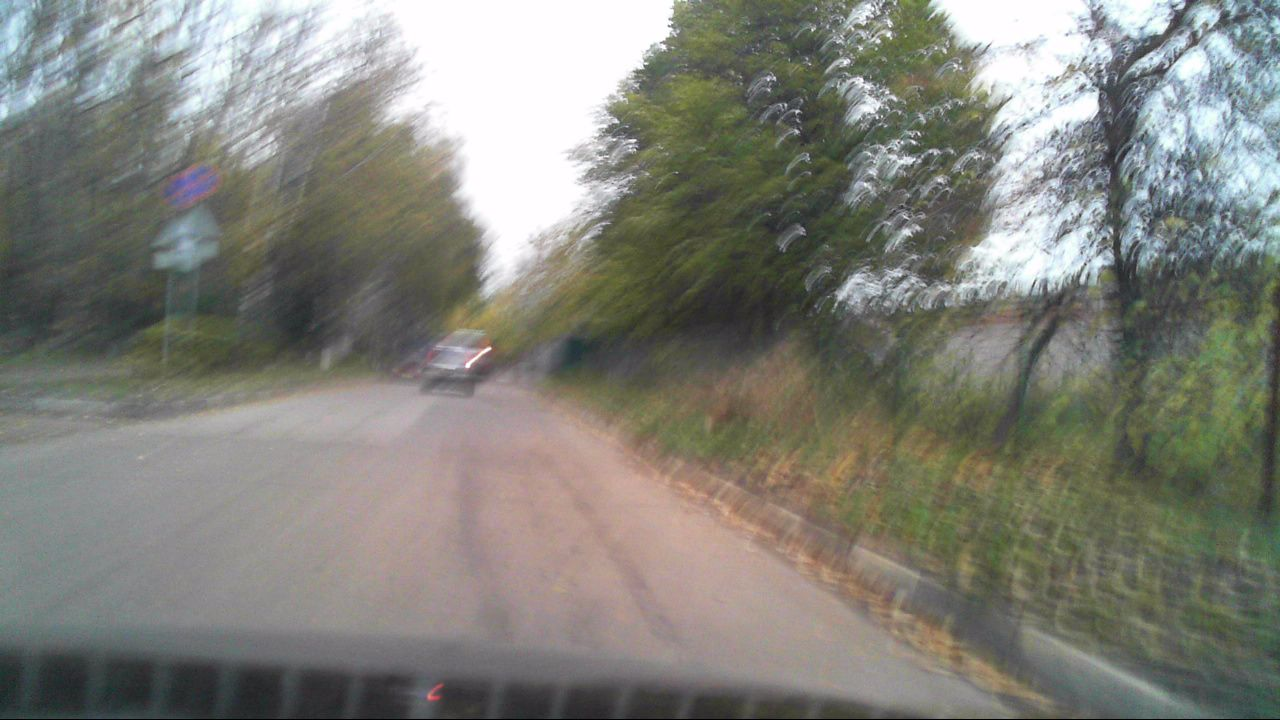No Parking: (178, 161, 217, 202)
